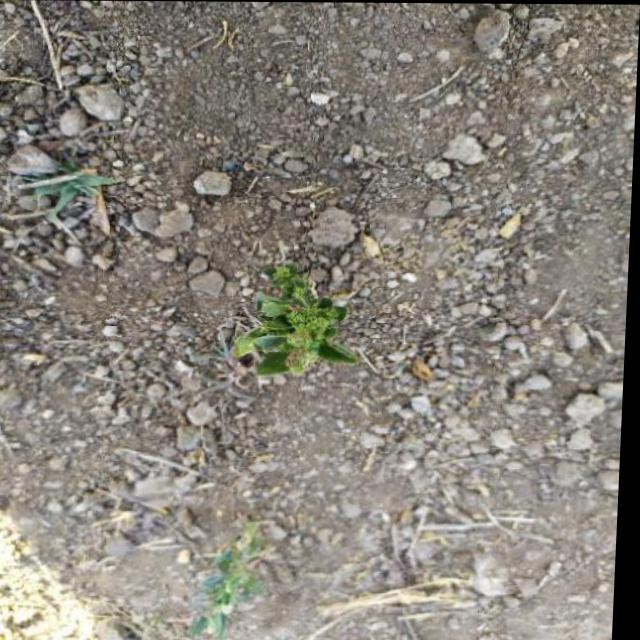weed: (226, 266, 381, 411)
